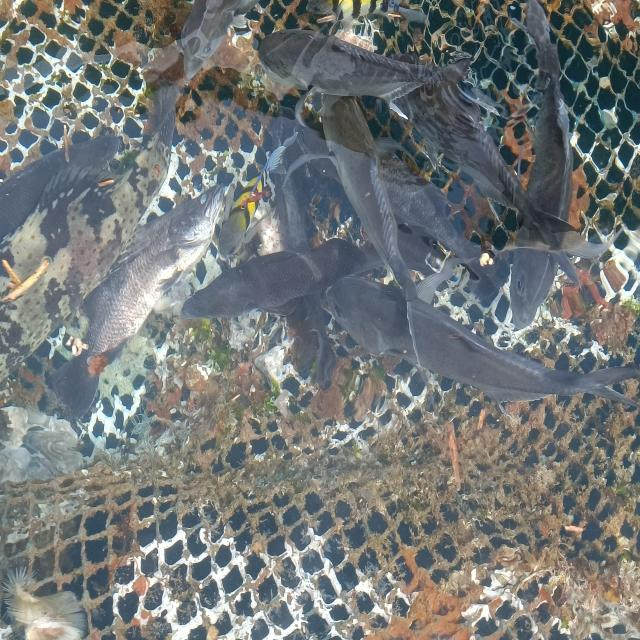ikan: (46, 181, 232, 427), (320, 272, 639, 413), (282, 91, 422, 305), (255, 26, 472, 107)
